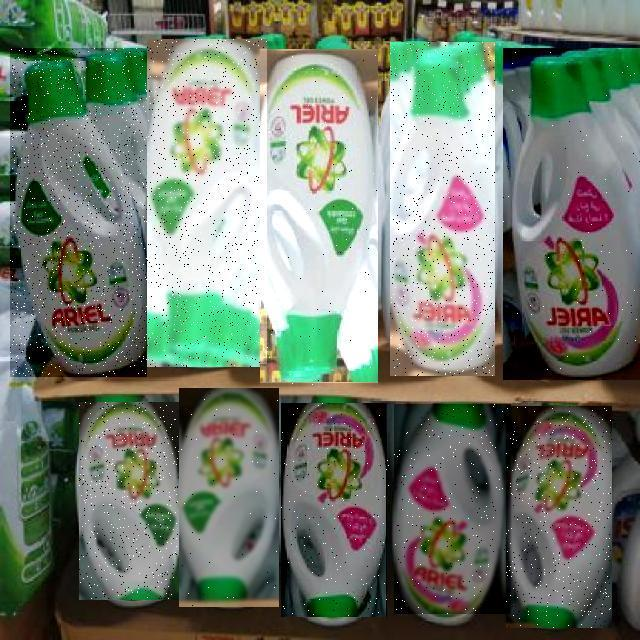Detergent: (503, 48, 640, 380), (10, 48, 147, 377), (260, 50, 378, 386), (147, 39, 267, 367), (390, 42, 495, 376), (394, 404, 511, 614), (506, 407, 612, 629), (282, 403, 390, 617), (179, 388, 279, 607), (79, 402, 179, 600)
